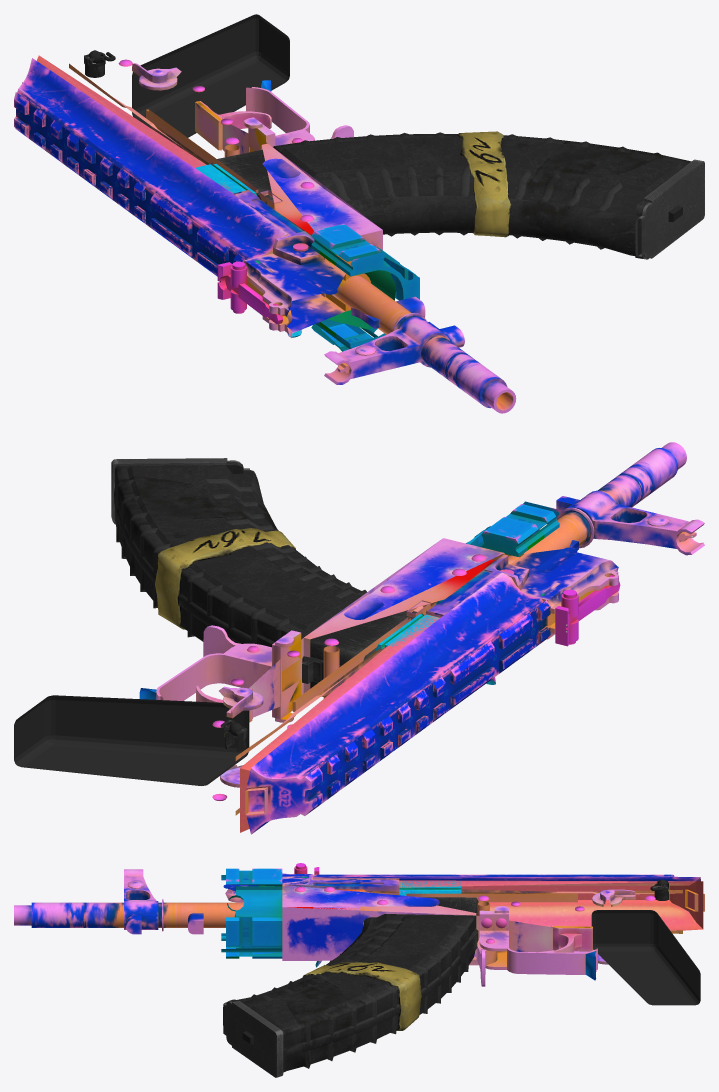
File: ak_pistol_draco.glb
3 views of the same model, one above another, from view 1: azimuth 30°, elevation 25°; view 2: azimuth 150°, elevation 25°; view 3: azimuth 270°, elevation 25° (orthographic). The views are drawn at different scales.
Visible parts, largest first — view 1: Object_5, Object_4, AK_Grip; view 2: Object_5, Object_4, AK_Grip, Object_3; view 3: Object_5, Object_4, AK_Grip.
Part boxes in pixels (bbox=[...]): Object_5: bbox=[14, 55, 516, 413]; Object_4: bbox=[210, 131, 704, 259]; AK_Grip: bbox=[132, 14, 289, 137]; Object_5: bbox=[139, 442, 704, 834]; Object_4: bbox=[111, 458, 423, 696]; AK_Grip: bbox=[14, 695, 249, 785]; Object_3: bbox=[220, 719, 247, 751]; Object_5: bbox=[14, 863, 704, 986]; Object_4: bbox=[223, 897, 478, 1077]; AK_Grip: bbox=[591, 910, 700, 1005].
Bounding box in the file's own units: 0.2783 × 0.0702 × 0.4557.
Materials: 6 (3 with a texture image).
